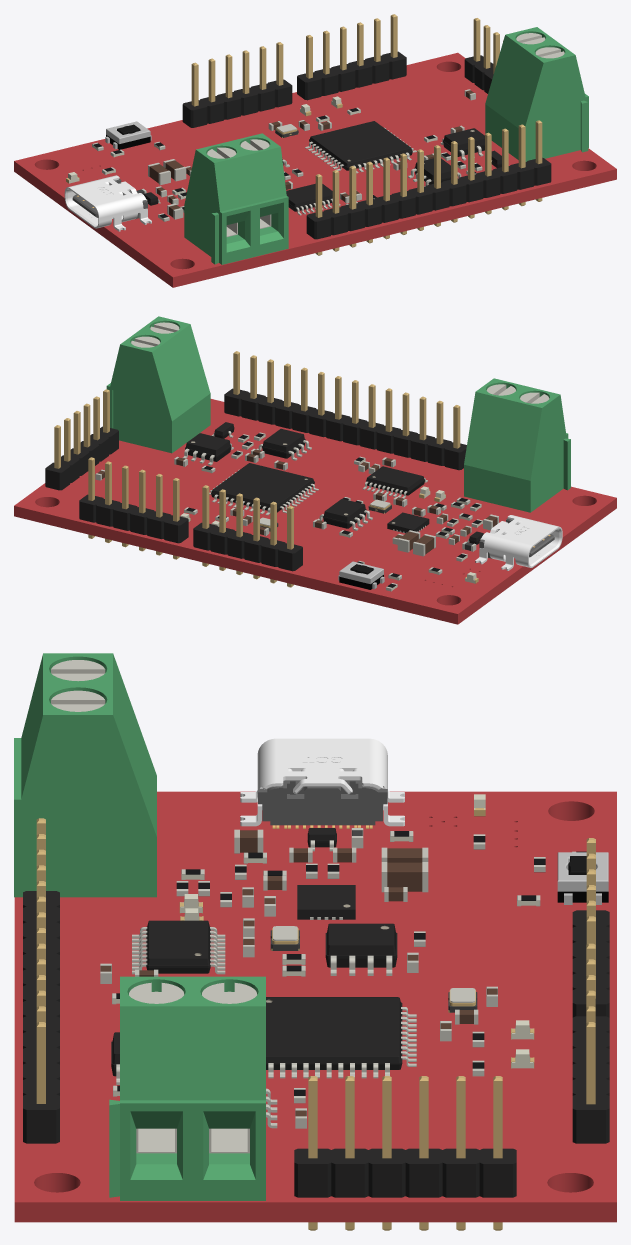
The model's file is uPIC46.glb.
3 renders of one model, top to bottom at view 1: azimuth 30°, elevation 25°; view 2: azimuth 150°, elevation 25°; view 3: azimuth 270°, elevation 25°, orthographic. The views are drawn at different scales.
Parts seen in each view (by area): view 1: =>[0:1:1:21], J8, J2, J5, J6, J4, U2, NAUO1, J3, SW1, U6, U8 (+2 smaller); view 2: =>[0:1:1:21], J8, J5, J2, J6, J4, J3, NAUO1, U2, U6, U3, U7 (+3 smaller); view 3: =>[0:1:1:21], J5, J8, J3, NAUO1, U2, J2, J4, U6, J6, U3, SW1 (+2 smaller).
Boxes of the visible parts, left/top/right/bottom form: =>[0:1:1:21]: left=14, top=52, right=616, bottom=287; J8: left=184, top=133, right=288, bottom=264; J2: left=306, top=120, right=551, bottom=255; J5: left=485, top=27, right=588, bottom=161; J6: left=182, top=42, right=292, bottom=127; J4: left=297, top=14, right=406, bottom=100; U2: left=305, top=121, right=416, bottom=173; NAUO1: left=64, top=175, right=151, bottom=231; J3: left=464, top=18, right=503, bottom=93; SW1: left=105, top=121, right=151, bottom=149; U6: left=286, top=183, right=340, bottom=215; U8: left=440, top=128, right=484, bottom=160; =>[0:1:1:21]: left=14, top=399, right=616, bottom=624; J8: left=464, top=378, right=570, bottom=512; J5: left=106, top=316, right=210, bottom=453; J2: left=224, top=351, right=466, bottom=470; J6: left=193, top=485, right=302, bottom=587; J4: left=79, top=457, right=188, bottom=559; J3: left=45, top=389, right=118, bottom=490; NAUO1: left=475, top=515, right=562, bottom=570; U2: left=209, top=463, right=318, bottom=515; U6: left=362, top=466, right=427, bottom=498; U3: left=317, top=499, right=372, bottom=530; U7: left=256, top=428, right=311, bottom=460; =>[0:1:1:21]: left=14, top=791, right=616, bottom=1222; J5: left=109, top=976, right=265, bottom=1200; J8: left=14, top=653, right=156, bottom=897; J3: left=294, top=1076, right=516, bottom=1230; NAUO1: left=240, top=738, right=404, bottom=828; U2: left=266, top=997, right=416, bottom=1078; J2: left=23, top=818, right=59, bottom=1143; J4: left=572, top=943, right=609, bottom=1143; U6: left=132, top=920, right=225, bottom=974; J6: left=572, top=838, right=609, bottom=1017; U3: left=325, top=923, right=397, bottom=975; SW1: left=557, top=852, right=608, bottom=904.
Size of the model in its own units: 0.0681 by 0.0173 by 0.0414.
